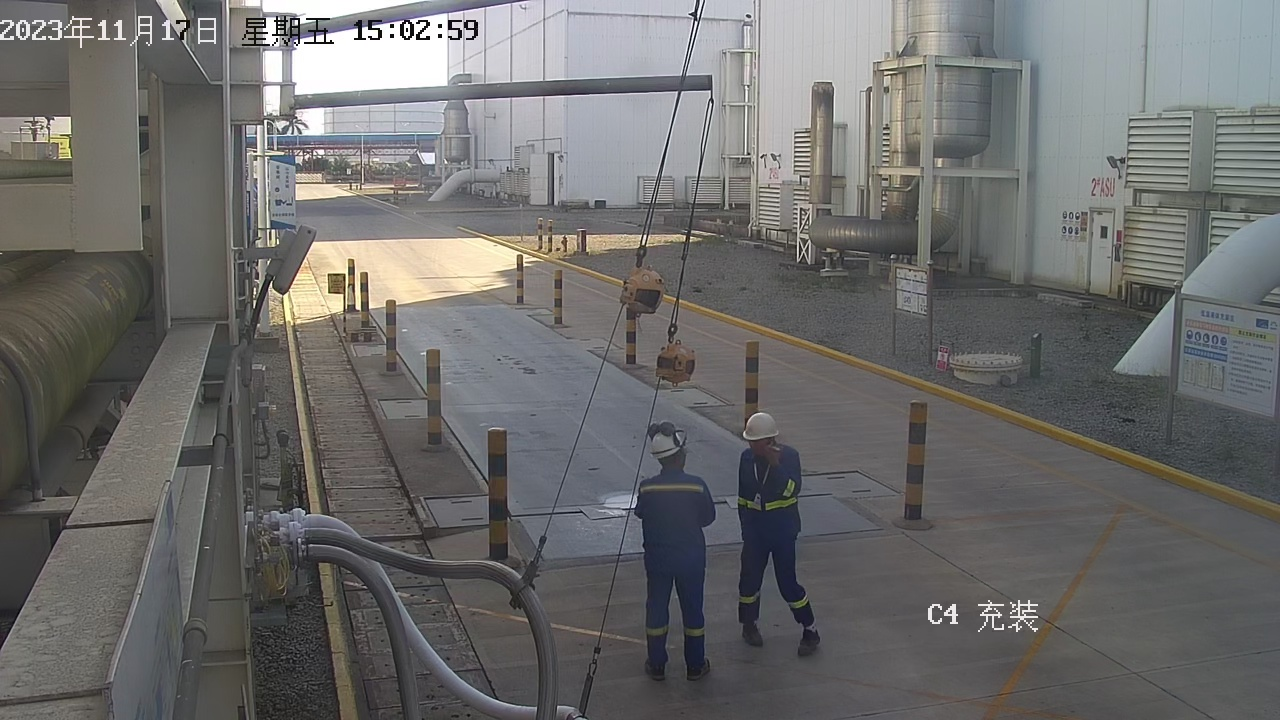Head_with_Helmet: (630, 410, 703, 474), (728, 404, 798, 460)
Uniform: (721, 443, 846, 667), (615, 457, 730, 689)
